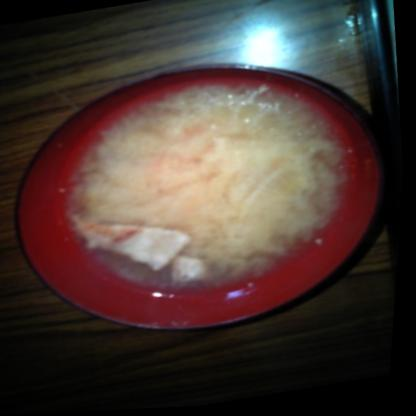miso soup: (45, 56, 371, 327)
